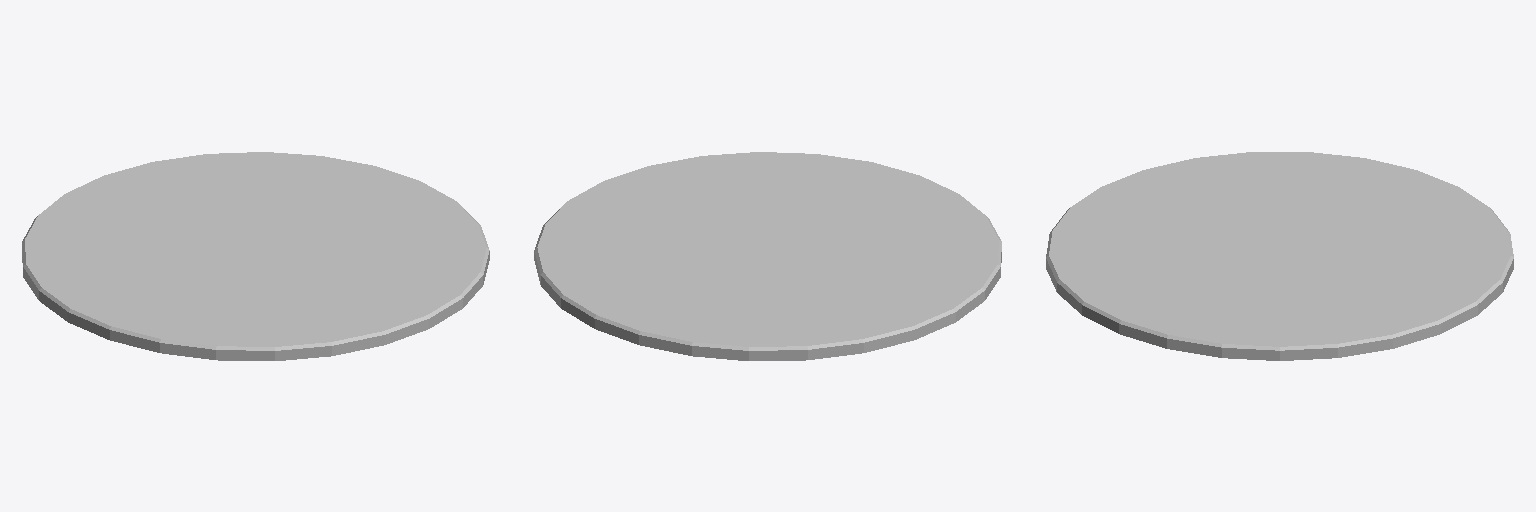
The model's file is Ground_Mat.obj.
3 renders of one model, left to right at view 1: azimuth 30°, elevation 25°; view 2: azimuth 150°, elevation 25°; view 3: azimuth 270°, elevation 25°, orthographic.
Parts seen in each view (by area): view 1: Base Scene; view 2: Base Scene; view 3: Base Scene.
Part boxes in pixels (x1,y1,x2,y2): Base Scene: (22, 152, 489, 360); Base Scene: (534, 152, 1001, 360); Base Scene: (1046, 152, 1513, 360).
Size of the model in its own units: 13.96 by 0.4324 by 13.99.